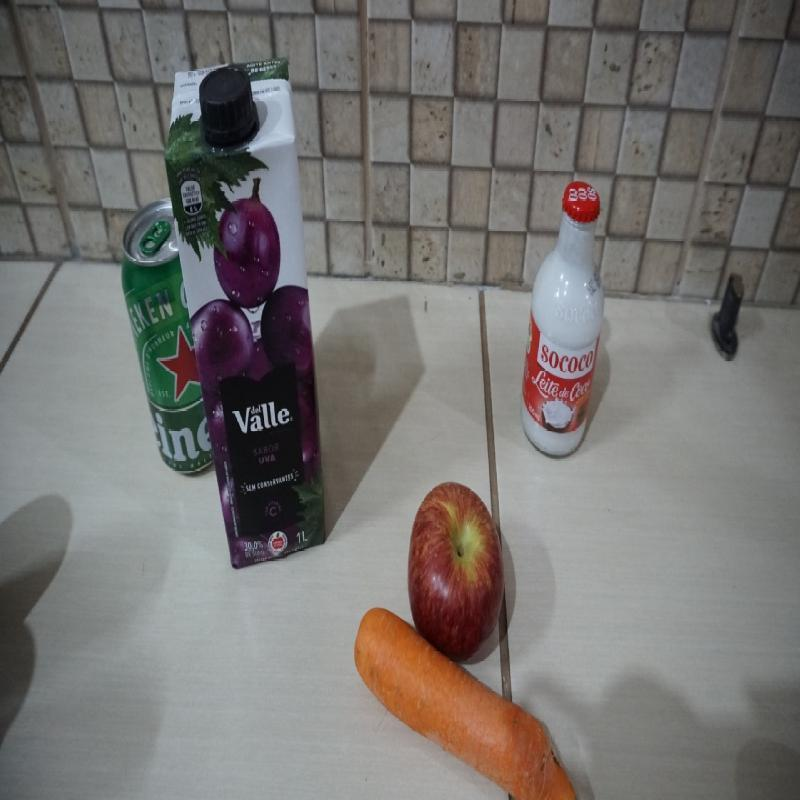Apple: (408, 481, 505, 663)
Beer can: (120, 196, 215, 472)
Carrot: (353, 608, 579, 800)
Coconut Milk: (516, 178, 607, 459)
